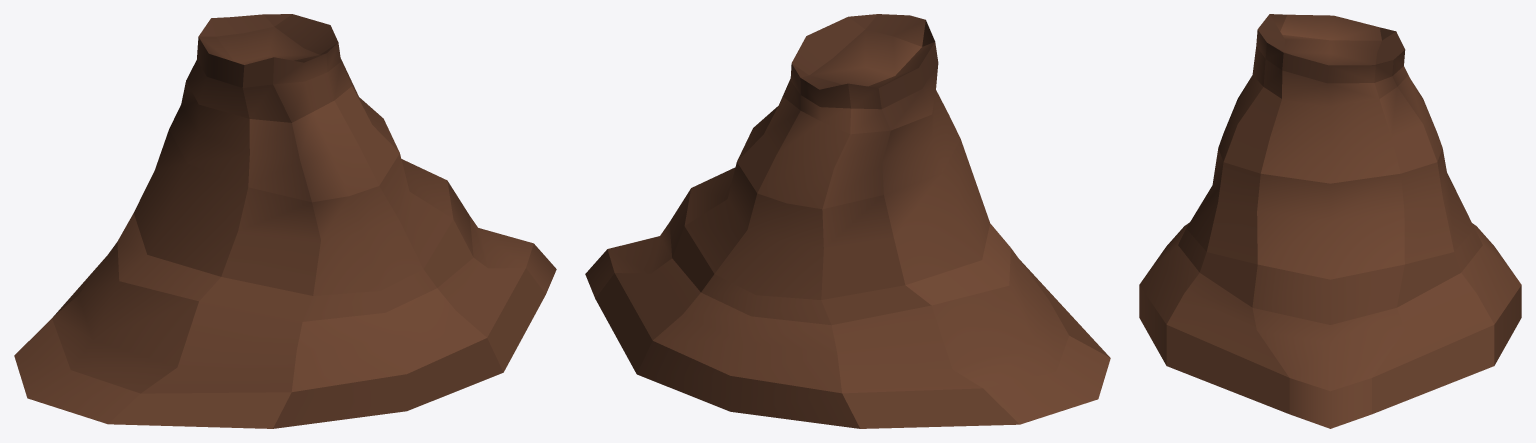
File: volcano_02.fbx
3 renders of one model, left to right at view 1: azimuth 30°, elevation 25°; view 2: azimuth 150°, elevation 25°; view 3: azimuth 270°, elevation 25°, orthographic. The views are drawn at different scales.
Parts seen in each view (by area): view 1: vulcano_02; view 2: vulcano_02; view 3: vulcano_02.
Boxes of the visible parts, x1=… form: vulcano_02: x1=14, y1=14, x2=556, y2=428; vulcano_02: x1=585, y1=14, x2=1110, y2=428; vulcano_02: x1=1139, y1=14, x2=1521, y2=428.
Bounding box in the file's own units: 6250 × 3548 × 4421.
